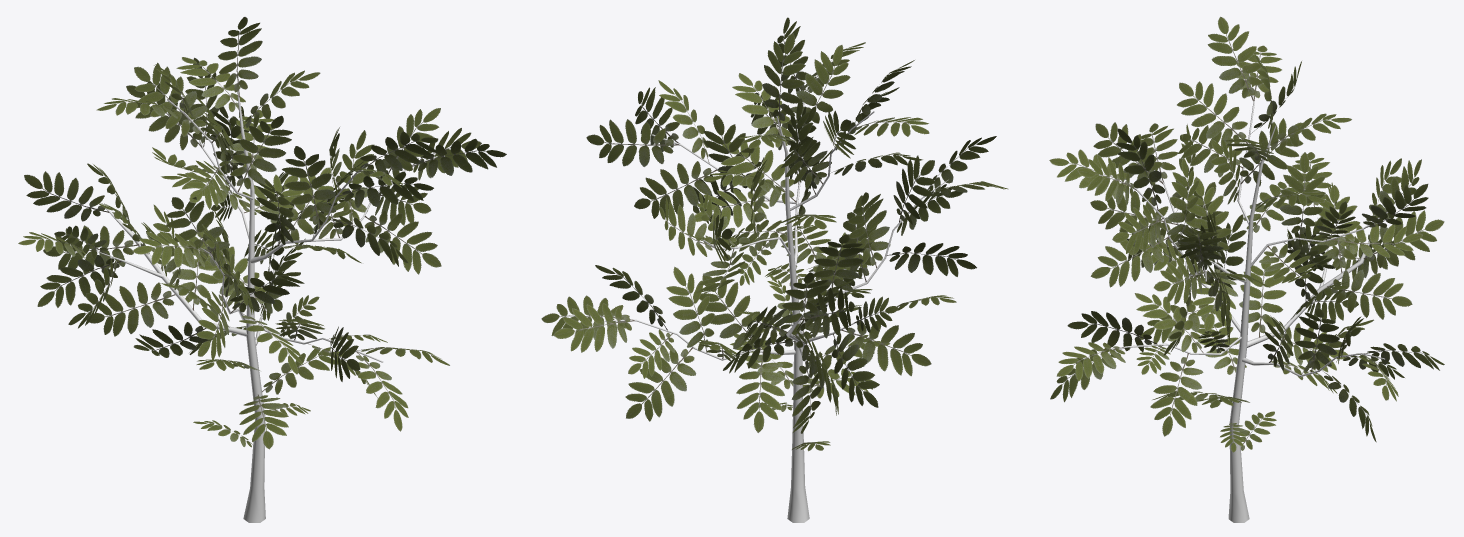
The model's file is PW_Plants_Bushes_02.fbx.
3 renders of one model, left to right at view 1: azimuth 30°, elevation 25°; view 2: azimuth 150°, elevation 25°; view 3: azimuth 270°, elevation 25°, orthographic. The views are drawn at different scales.
Parts seen in each view (by area): view 1: PW_Plants_Bushes_02_LOD0; view 2: PW_Plants_Bushes_02_LOD0; view 3: PW_Plants_Bushes_02_LOD0.
Boxes of the visible parts, left/top/right/bottom form: PW_Plants_Bushes_02_LOD0: left=18, top=17, right=506, bottom=522; PW_Plants_Bushes_02_LOD0: left=541, top=17, right=1008, bottom=522; PW_Plants_Bushes_02_LOD0: left=1049, top=16, right=1444, bottom=522.
Size of what is drawn, in the model's own units: 175 by 197 by 155.
2 materials, 1 textured.
